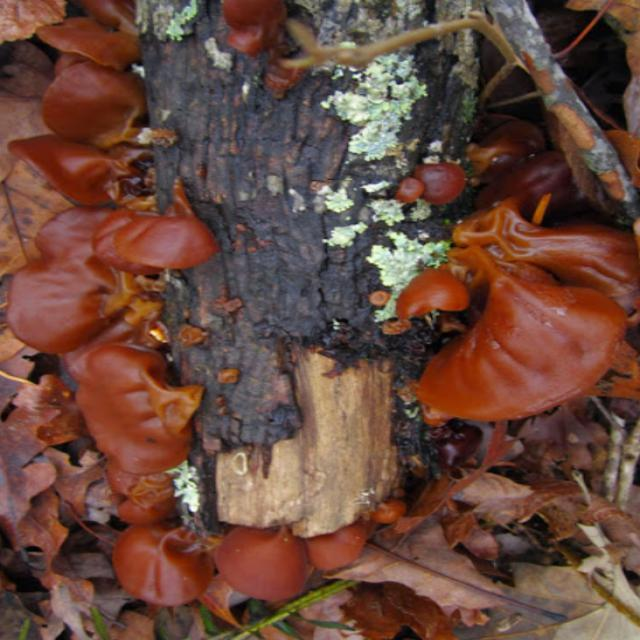Fase Muda: (16, 8, 212, 606), (436, 204, 637, 433), (223, 513, 368, 597), (199, 0, 322, 75)
